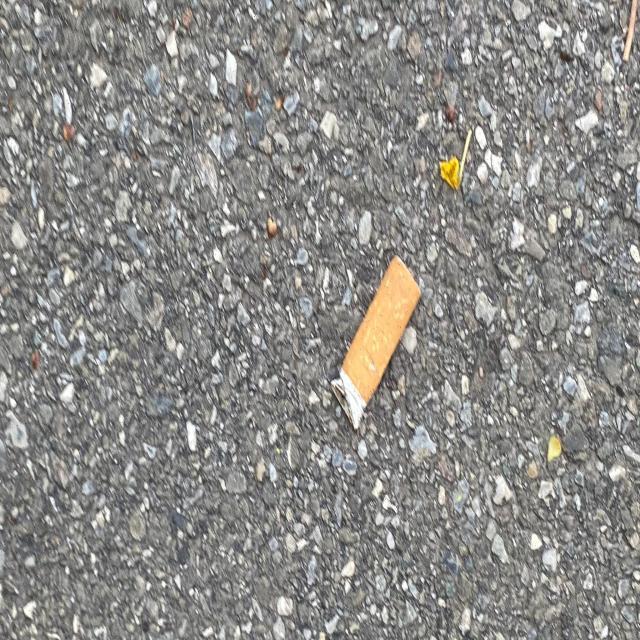other waste: (329, 250, 423, 434)
